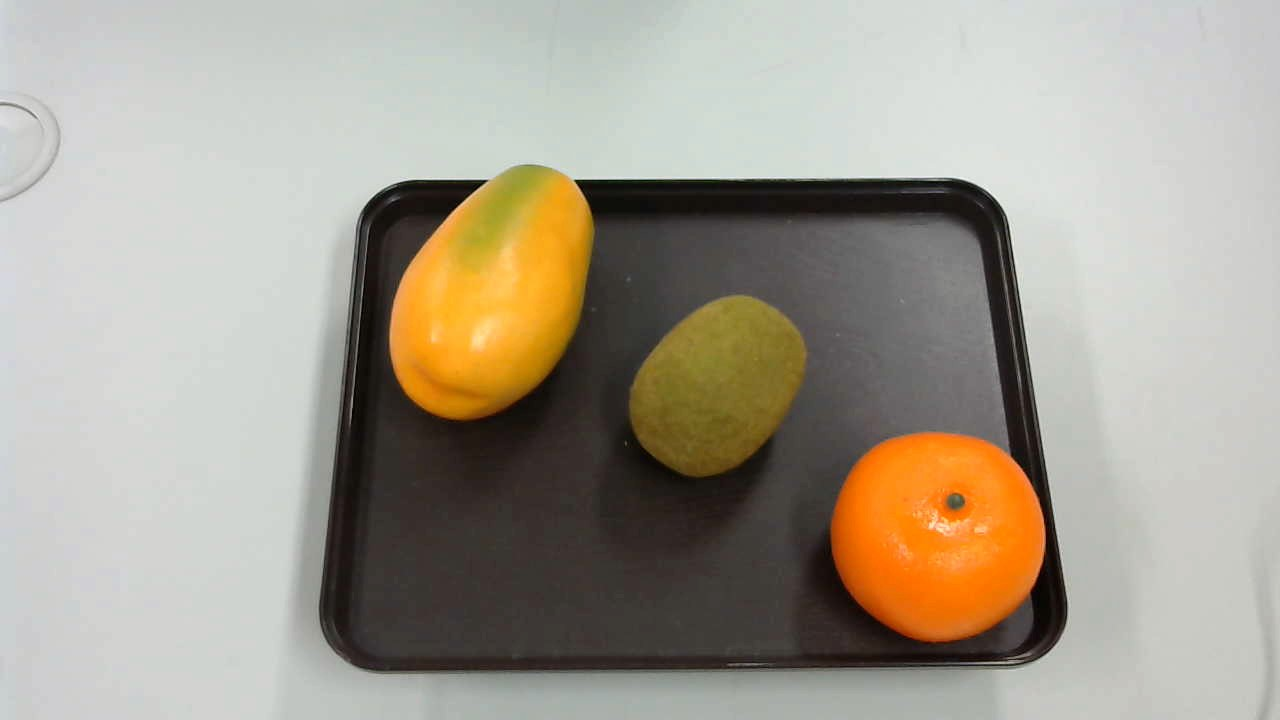kiwi fruit: (623, 292, 809, 473)
orange: (830, 429, 1046, 647)
papya: (386, 164, 593, 424)
